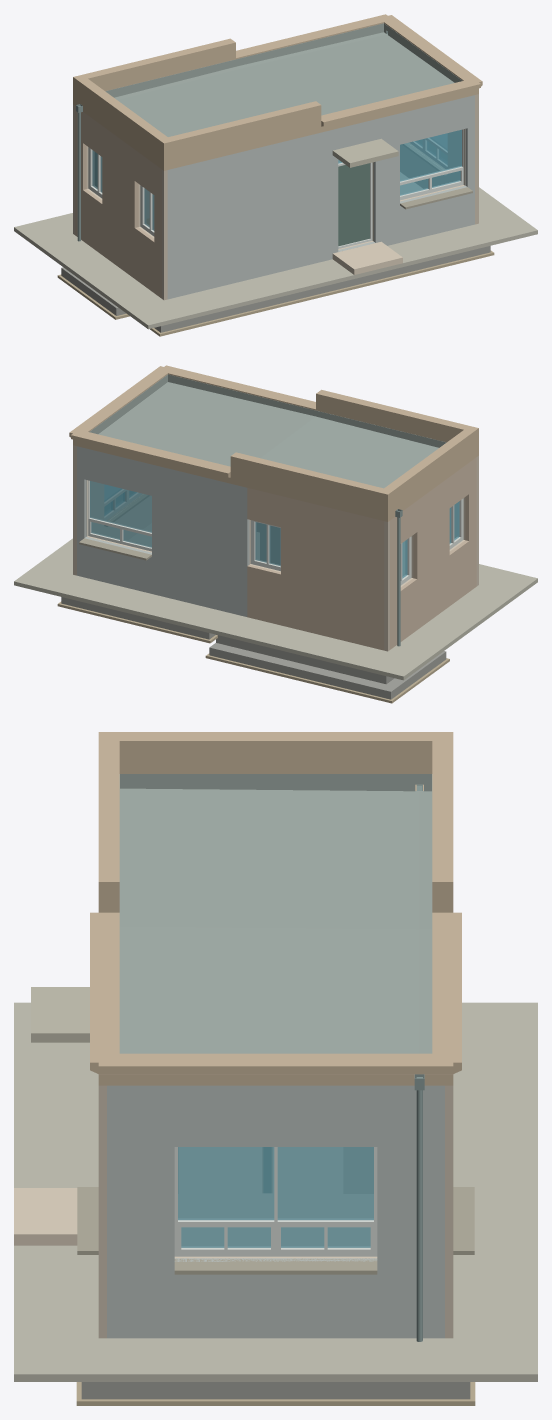
File: guardhouse-with-roof.glb
3 renders of one model, top to bottom at view 1: azimuth 30°, elevation 25°; view 2: azimuth 150°, elevation 25°; view 3: azimuth 270°, elevation 25°, orthographic. The views are drawn at different scales.
Visible parts, largest first — view 1: 외벽 마감 (×13), 지붕 방수·구배층, 외부 포장 폭 1000, 파라펫 (×4), 서측 높은 파라펫, 지붕 방수 치켜올림 (×2), 창문, 출입문, 줄기초 800×300, 창호 프레임 (×3), 외벽 모서리 마감 (×3), 실내 벽 마감 (×2) (+9 smaller); view 2: 외벽 마감 (×14), 지붕 방수·구배층, 외부 포장 폭 1000, 파라펫 (×4), 창문 (×2), 서측 높은 파라펫, PIT 매트 기초, 지붕 방수 치켜올림 (×2), 창호 프레임 (×3), 실내 벽 마감 (×2), 지붕 몰딩 (×2), PIT 벽 200 (+9 smaller); view 3: 지붕 방수·구배층, 외부 포장 폭 1000, 외벽 마감 (×4), 창문, 실내 바닥 마감, 파라펫 (×4), 서측 높은 파라펫, 줄기초 800×300 (×2), 동측 낮은 파라펫, 외부 창대석 T50×W350 (×3), 창호 프레임, 지붕 방수 치켜올림 (+8 smaller).
Boxes of the visible parts, <box> form: 외벽 마감 (×13): <box>75,95,474,299</box>; 지붕 방수·구배층: <box>114,32,454,136</box>; 외부 포장 폭 1000: <box>14,187,537,329</box>; 파라펫 (×4): <box>83,16,478,168</box>; 서측 높은 파라펫: <box>73,74,173,170</box>; 지붕 방수 치켜올림 (×2): <box>105,23,462,97</box>; 창문: <box>400,129,461,195</box>; 출입문: <box>338,163,369,246</box>; 줄기초 800×300: <box>154,246,490,332</box>; 창호 프레임 (×3): <box>88,129,463,236</box>; 외벽 모서리 마감 (×3): <box>73,94,478,300</box>; 실내 벽 마감 (×2): <box>400,129,465,188</box>; 외벽 마감 (×14): <box>77,446,476,650</box>; 지붕 방수·구배층: <box>98,382,438,488</box>; 외부 포장 폭 1000: <box>14,538,537,680</box>; 파라펫 (×4): <box>73,367,468,519</box>; 창문 (×2): <box>90,481,280,565</box>; 서측 높은 파라펫: <box>378,426,478,521</box>; PIT 매트 기초: <box>209,643,446,699</box>; 지붕 방수 치켜올림 (×2): <box>89,374,446,447</box>; 창호 프레임 (×3): <box>88,480,463,571</box>; 실내 벽 마감 (×2): <box>86,480,151,539</box>; 지붕 몰딩 (×2): <box>71,365,315,477</box>; PIT 벽 200: <box>223,636,378,682</box>; 지붕 방수·구배층: <box>120,788,431,1053</box>; 외부 포장 폭 1000: <box>14,1002,537,1381</box>; 외벽 마감 (×4): <box>107,1085,444,1338</box>; 창문: <box>178,1147,373,1247</box>; 실내 바닥 마감: <box>178,1147,373,1245</box>; 파라펫 (×4): <box>98,741,453,1085</box>; 서측 높은 파라펫: <box>98,732,453,790</box>; 줄기초 800×300 (×2): <box>81,1382,470,1399</box>; 동측 낮은 파라펫: <box>119,1053,432,1085</box>; 외부 창대석 T50×W350 (×3): <box>77,1187,474,1274</box>; 창호 프레임: <box>174,1147,377,1256</box>; 지붕 방수 치켜올림: <box>120,774,431,791</box>.
Size of the model in its own units: 10.4 by 5.16 by 6.2.
